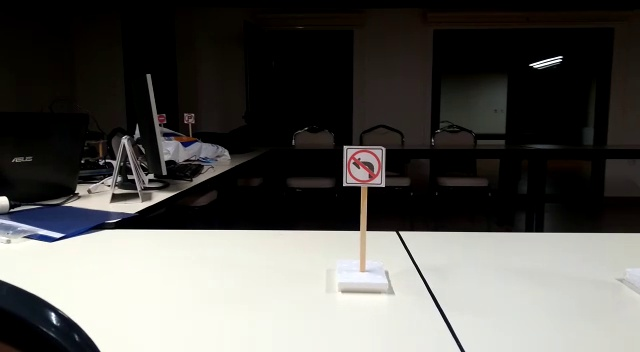sola_donulmez: (343, 146, 385, 186)
